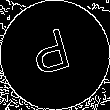P_S: (31, 26, 79, 84)
